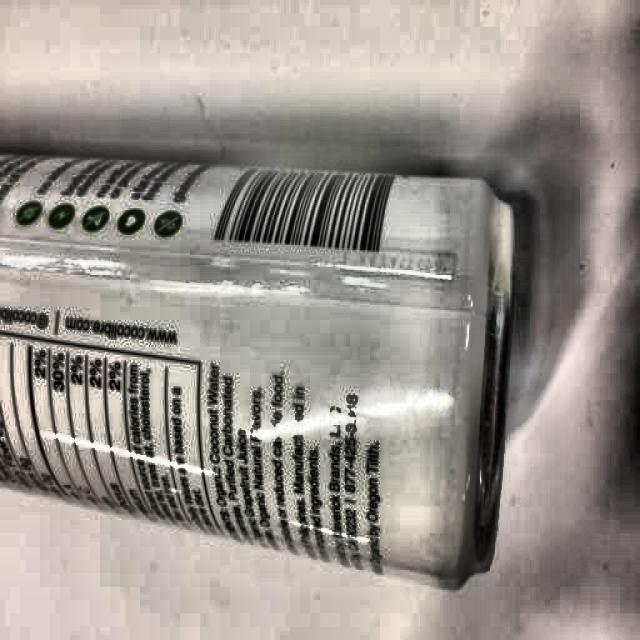plastic: (0, 148, 513, 588)
